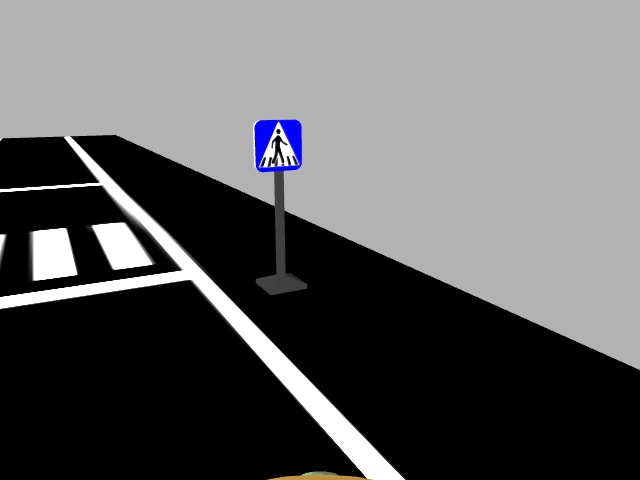Crosswalk: (252, 118, 303, 171)
